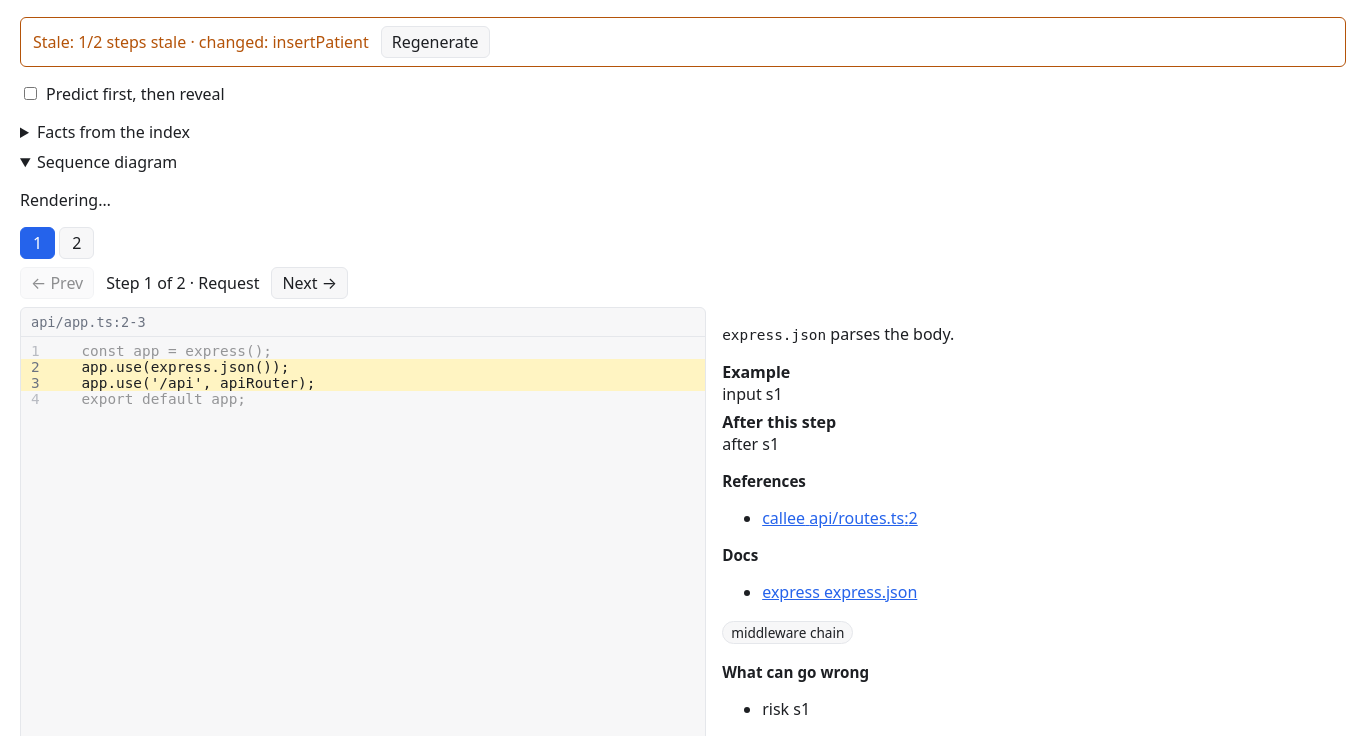
it: walkthrough reader › shows a referenced line when its reference is clicked
This screenshot has width=1366, height=736.
(page scrolled)
Click the button "callee api/routes.ts:2" at (840, 518), box left=762, top=507, right=918, bottom=529
(page scrolled)
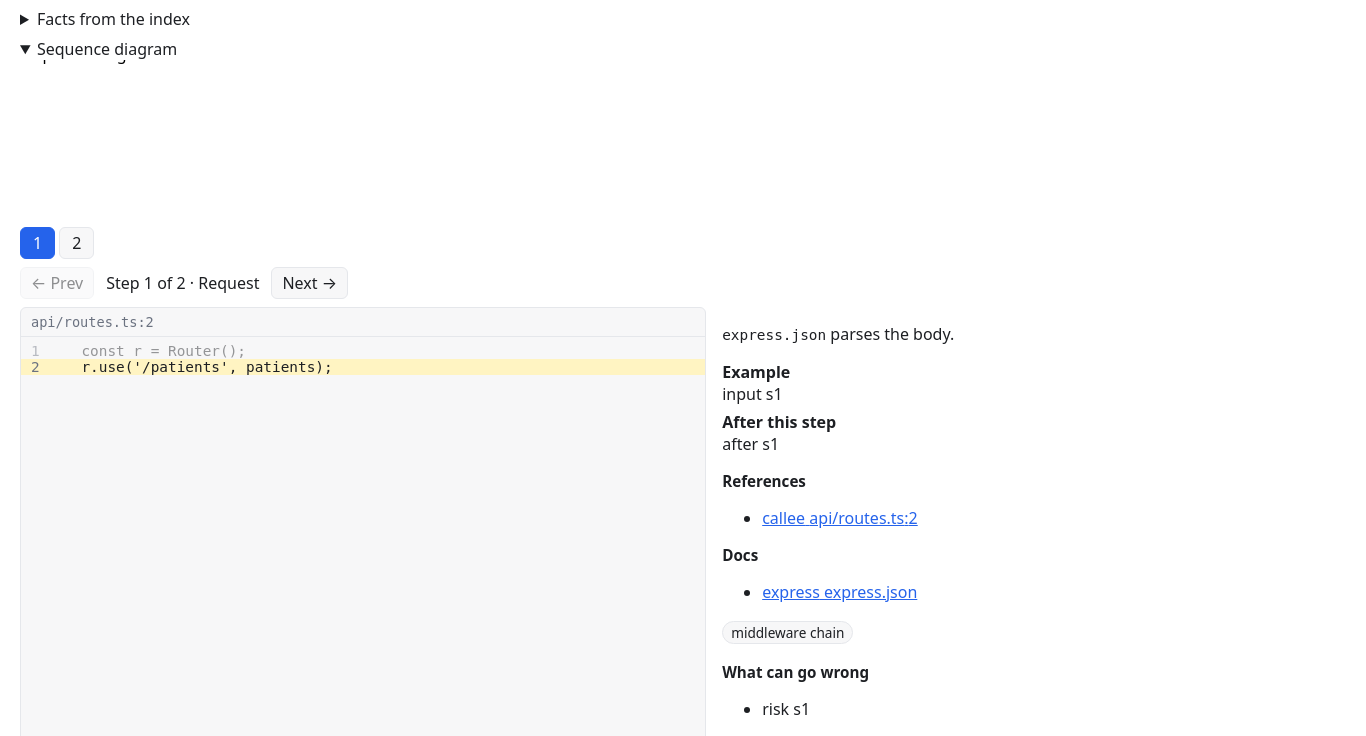
Expected: the text "api/routes.ts:2" is shown, left=21, top=308, right=705, bottom=337
